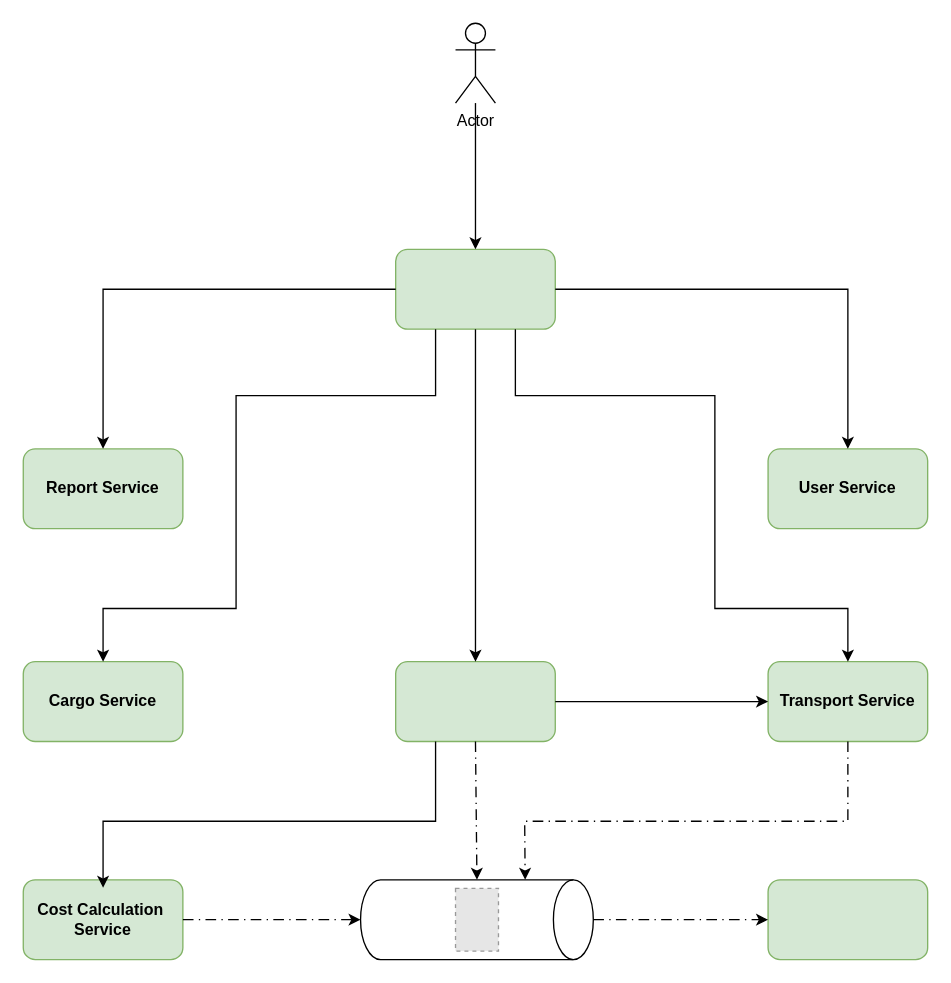
The diagram is 951 pixels wide and 983 high, and some of its shapes have lost their labels. Grey dashed boxes stand in for pictures. Here are the shapes that lost their labels. From the top down, the centre of each, then its label:
the point at 474,288: API Getway
the point at 474,700: Delivery Service
the point at 847,919: Notification Service
